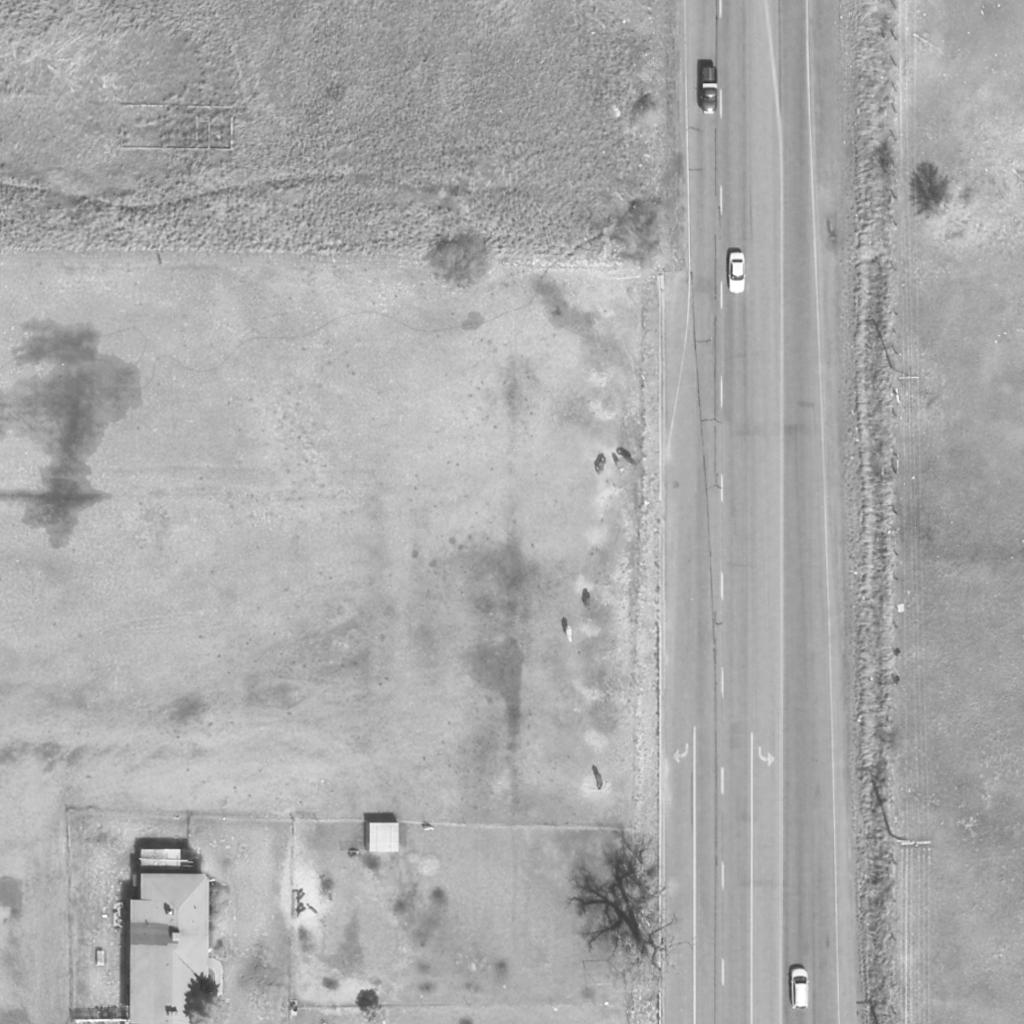vehicle: (700, 65, 718, 113), (726, 252, 746, 294), (791, 968, 809, 1010)
